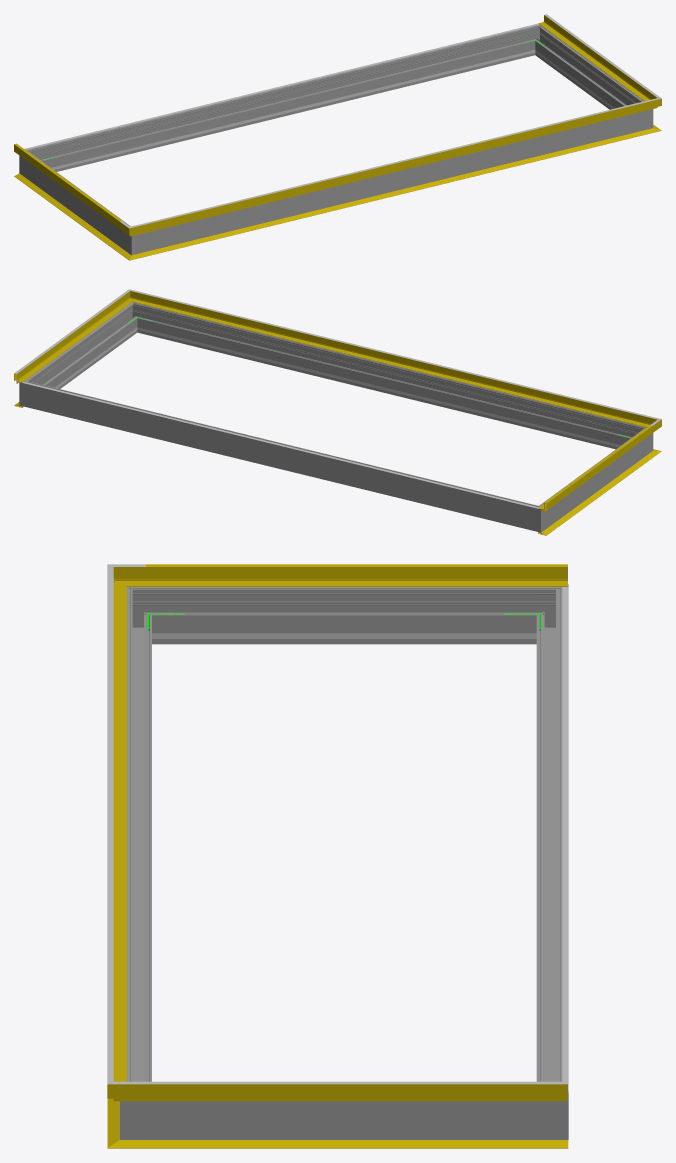
The picture shows the model from 3 angles, top to bottom: view 1: azimuth 30°, elevation 25°; view 2: azimuth 150°, elevation 25°; view 3: azimuth 270°, elevation 25°; orthographic projection. The views are drawn at different scales.
Parts seen in each view (by area): view 1: 3DGeom-276, 3DGeom-298, 3DGeom-56, 3DGeom-297, 3DGeom-28, 3DGeom-268, 3DGeom-244, 3DGeom-58, 3DGeom-220, 3DGeom-66, 3DGeom-50, 3DGeom-38 (+3 smaller); view 2: 3DGeom-298, 3DGeom-276, 3DGeom-56, 3DGeom-297, 3DGeom-268, 3DGeom-239, 3DGeom-58, 3DGeom-220, 3DGeom-66, 3DGeom-50, 3DGeom-38, 3DGeom-278 (+2 smaller); view 3: 3DGeom-268, 3DGeom-297, 3DGeom-276, 3DGeom-298, 3DGeom-50, 3DGeom-58, 3DGeom-56, 3DGeom-30, 3DGeom-220, 3DGeom-66, 3DGeom-232, 3DGeom-64 (+5 smaller).
Boxes of the visible parts, x1,y1,x2,y2 form: 3DGeom-276: [37, 28, 532, 171]; 3DGeom-298: [148, 113, 636, 251]; 3DGeom-56: [144, 102, 645, 232]; 3DGeom-297: [536, 30, 640, 109]; 3DGeom-28: [143, 131, 644, 256]; 3DGeom-268: [29, 156, 126, 247]; 3DGeom-244: [57, 54, 518, 168]; 3DGeom-58: [538, 15, 649, 100]; 3DGeom-220: [24, 23, 539, 149]; 3DGeom-66: [145, 101, 644, 224]; 3DGeom-50: [14, 144, 119, 228]; 3DGeom-38: [14, 173, 124, 253]; 3DGeom-298: [140, 305, 634, 449]; 3DGeom-276: [36, 384, 527, 528]; 3DGeom-56: [141, 294, 643, 425]; 3DGeom-297: [31, 308, 135, 388]; 3DGeom-268: [545, 433, 643, 525]; 3DGeom-239: [153, 331, 615, 446]; 3DGeom-58: [14, 297, 127, 383]; 3DGeom-220: [22, 382, 538, 508]; 3DGeom-66: [144, 293, 644, 415]; 3DGeom-50: [538, 426, 652, 512]; 3DGeom-38: [538, 455, 651, 535]; 3DGeom-278: [524, 501, 550, 532]; 3DGeom-268: [158, 587, 530, 644]; 3DGeom-297: [158, 1101, 530, 1139]; 3DGeom-276: [536, 600, 562, 1081]; 3DGeom-298: [126, 600, 151, 1081]; 3DGeom-50: [145, 567, 567, 586]; 3DGeom-58: [145, 1084, 567, 1101]; 3DGeom-56: [113, 593, 126, 1081]; 3DGeom-30: [146, 1140, 568, 1148]; 3DGeom-220: [562, 586, 568, 1090]; 3DGeom-66: [107, 580, 113, 1067]; 3DGeom-232: [189, 633, 499, 638]; 3DGeom-64: [146, 1081, 567, 1084].
Bounding box in the file's own units: 4.88 × 0.2831 × 1.83.
